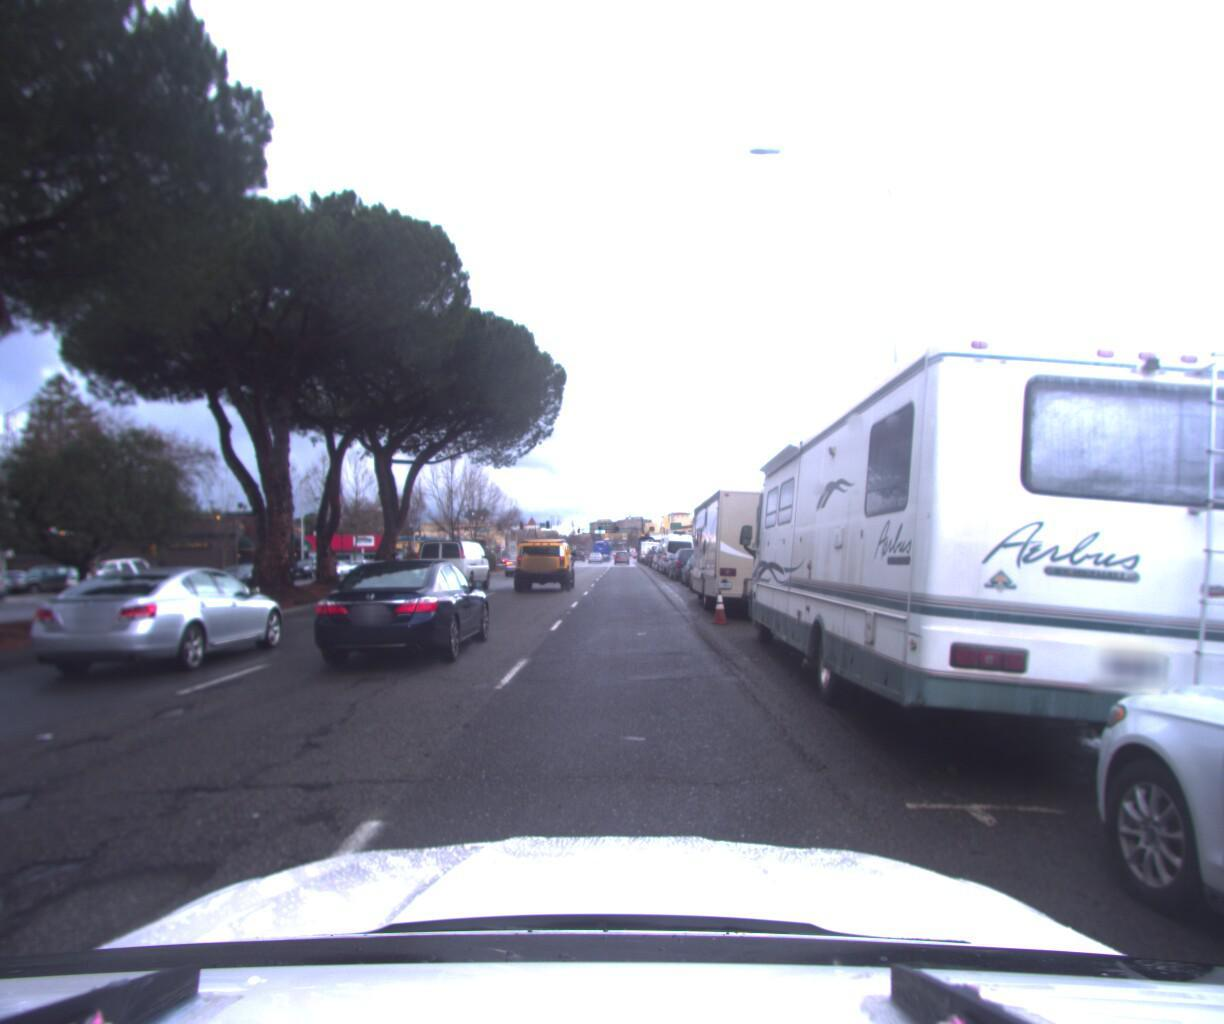car: (12, 559, 302, 699), (309, 557, 497, 682), (411, 530, 495, 593), (512, 532, 580, 594), (62, 557, 155, 591), (2, 563, 90, 596), (678, 546, 729, 584), (666, 539, 715, 577), (221, 558, 282, 586), (288, 555, 329, 579), (492, 547, 526, 573), (0, 573, 15, 622), (344, 555, 376, 575)
other_vehicle: (730, 225, 1224, 863), (684, 475, 845, 621), (657, 524, 697, 571)
